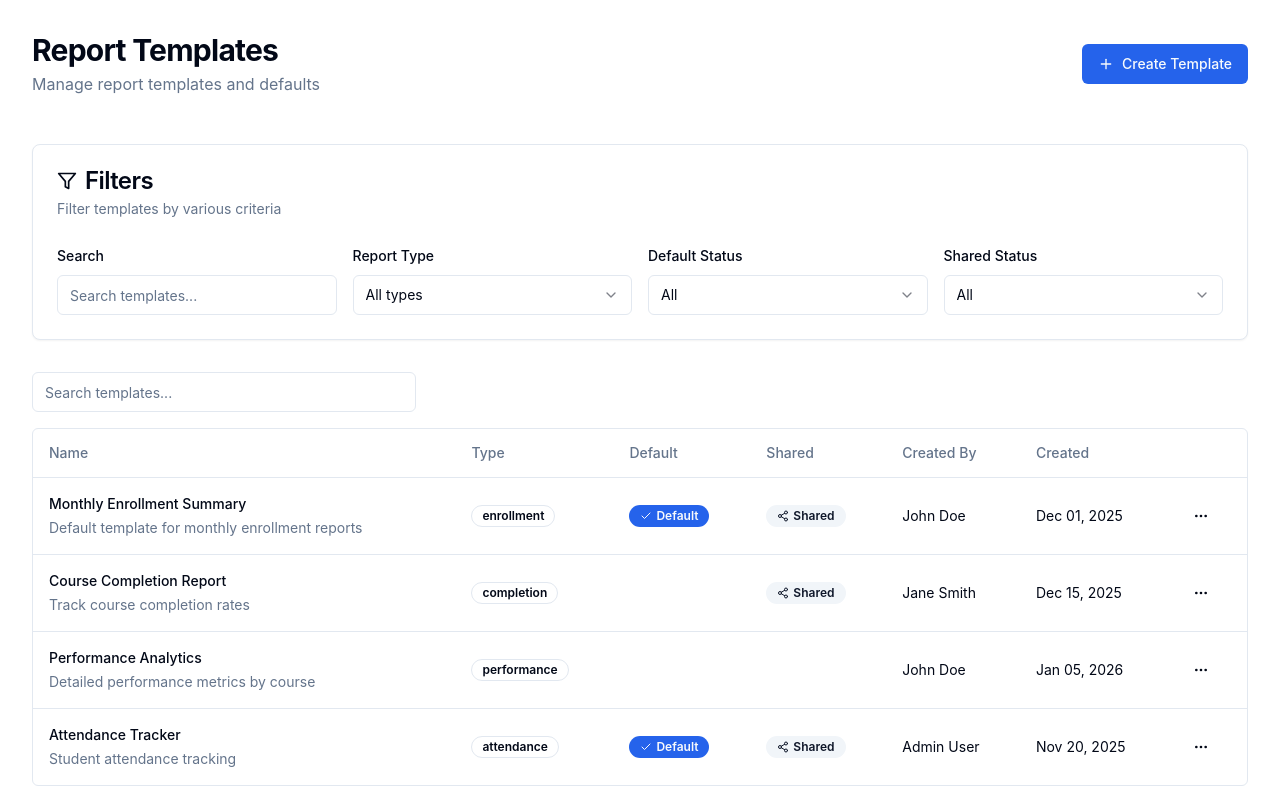
it: ReportTemplatesPage › Create Template › should open create modal when Create Template button is clicked
Click the button "Create Template": (1165, 64) [1082,44,1248,84]
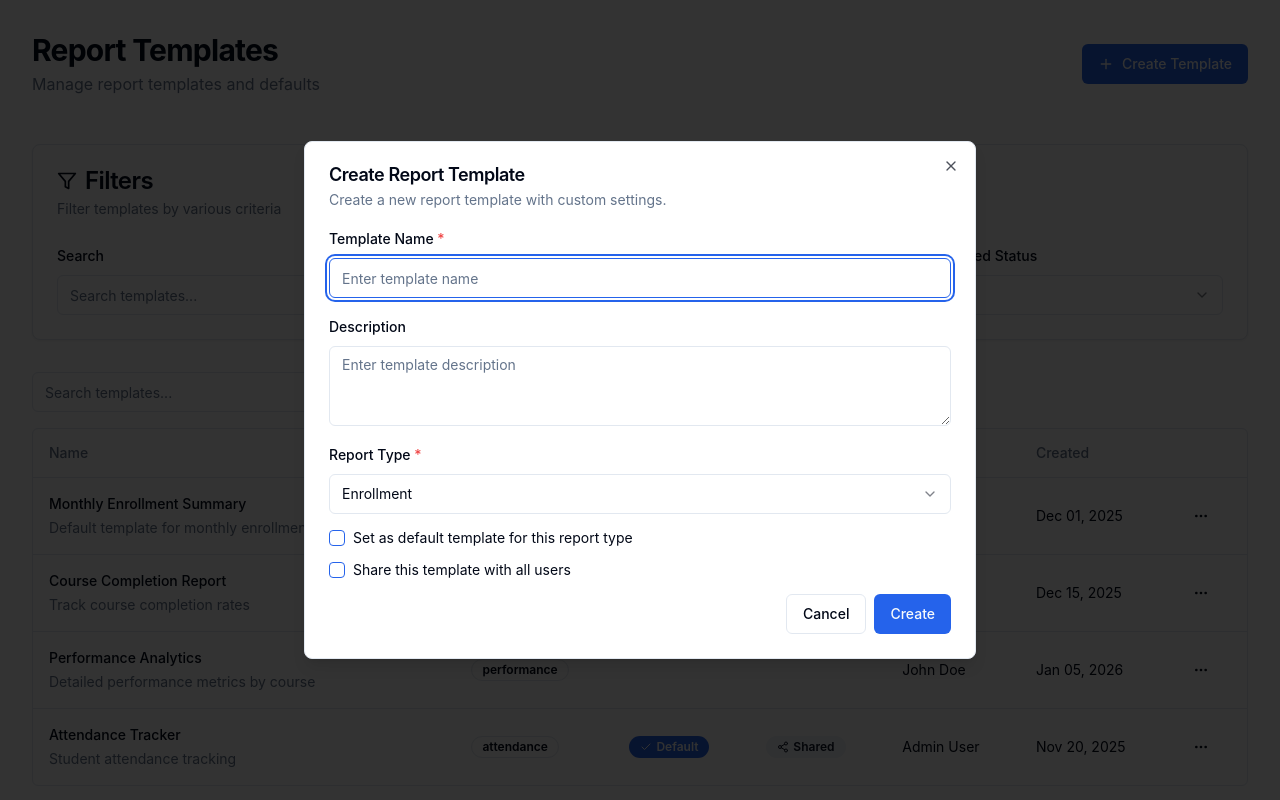
Now the dialog with test id "template-form-dialog" is shown, box [304,141,976,659]
Now the heading "Create Report Template" is shown, box [329,164,525,185]
